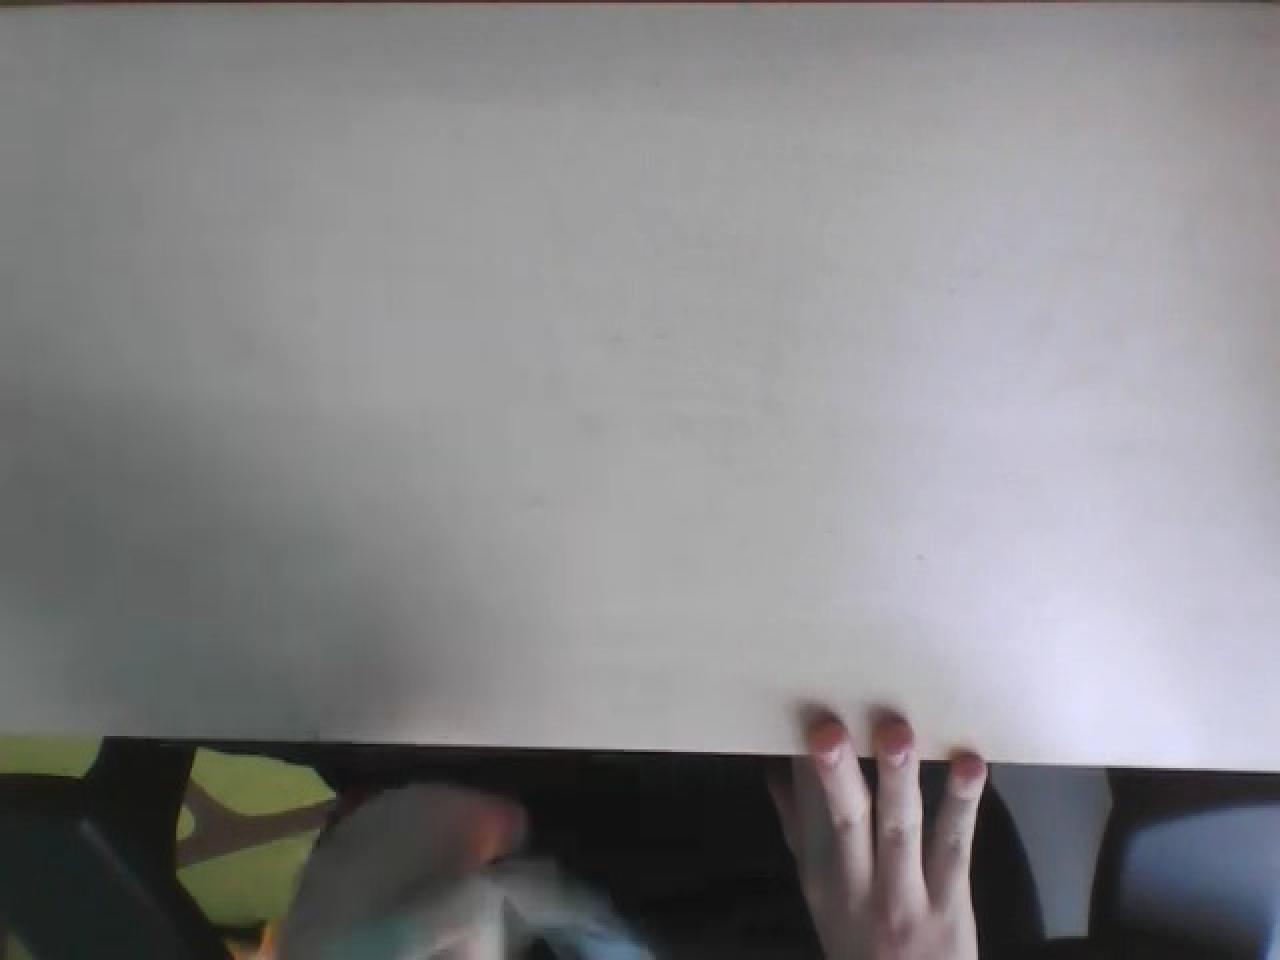100leva: (4, 8, 1278, 782), (6, 720, 1276, 960)
